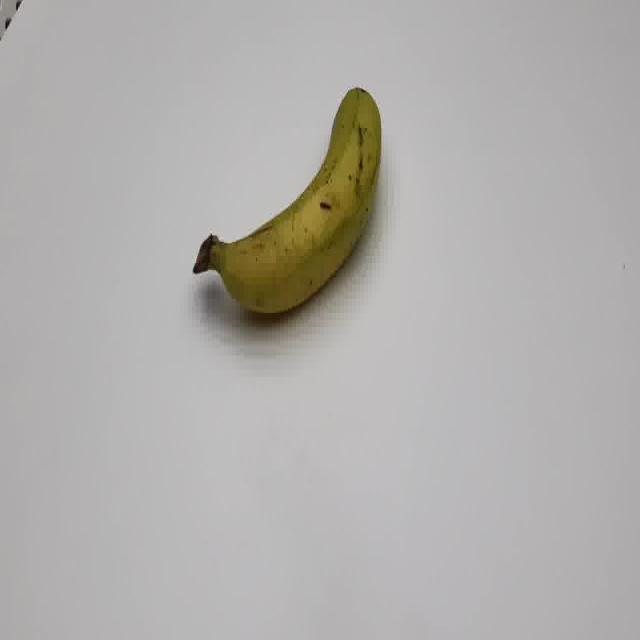banana: (191, 81, 382, 318)
